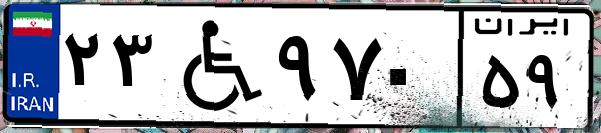0: (385, 28, 445, 110)
2: (57, 26, 110, 100)
3: (110, 28, 158, 98)
5: (475, 38, 525, 113)
7: (330, 28, 385, 110)
9: (270, 28, 330, 110), (525, 38, 570, 115)
ژ (معلولین و جانبازان): (158, 12, 270, 120)
